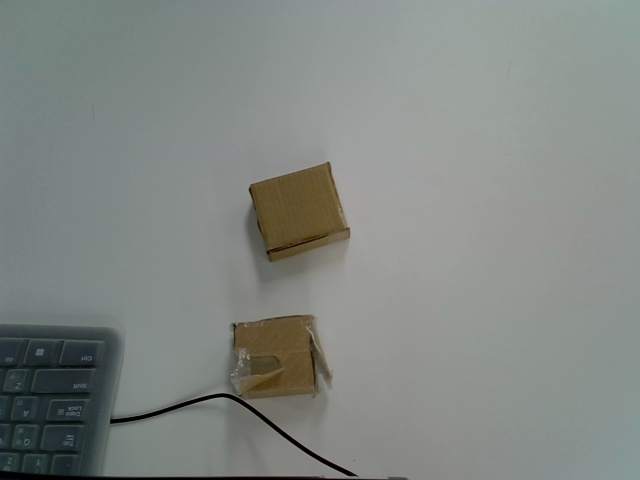defect: (232, 312, 333, 400)
normal: (248, 159, 354, 262)
